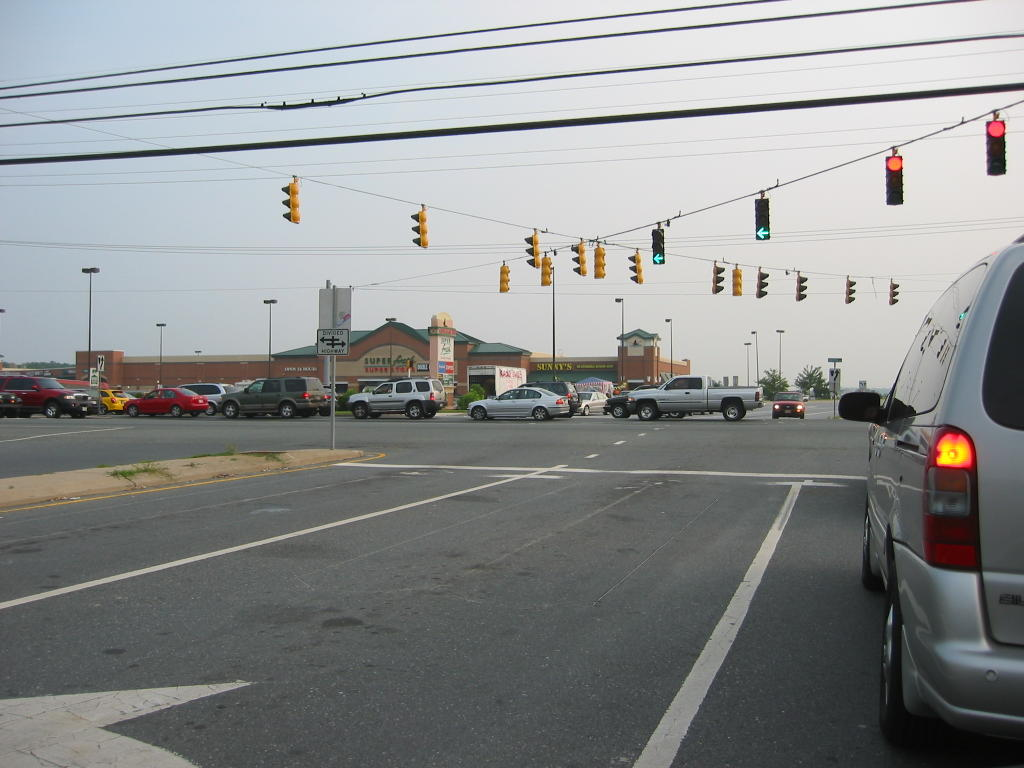traffic_light: (983, 118, 1009, 177), (883, 154, 906, 207), (753, 197, 773, 242), (649, 227, 668, 266)
